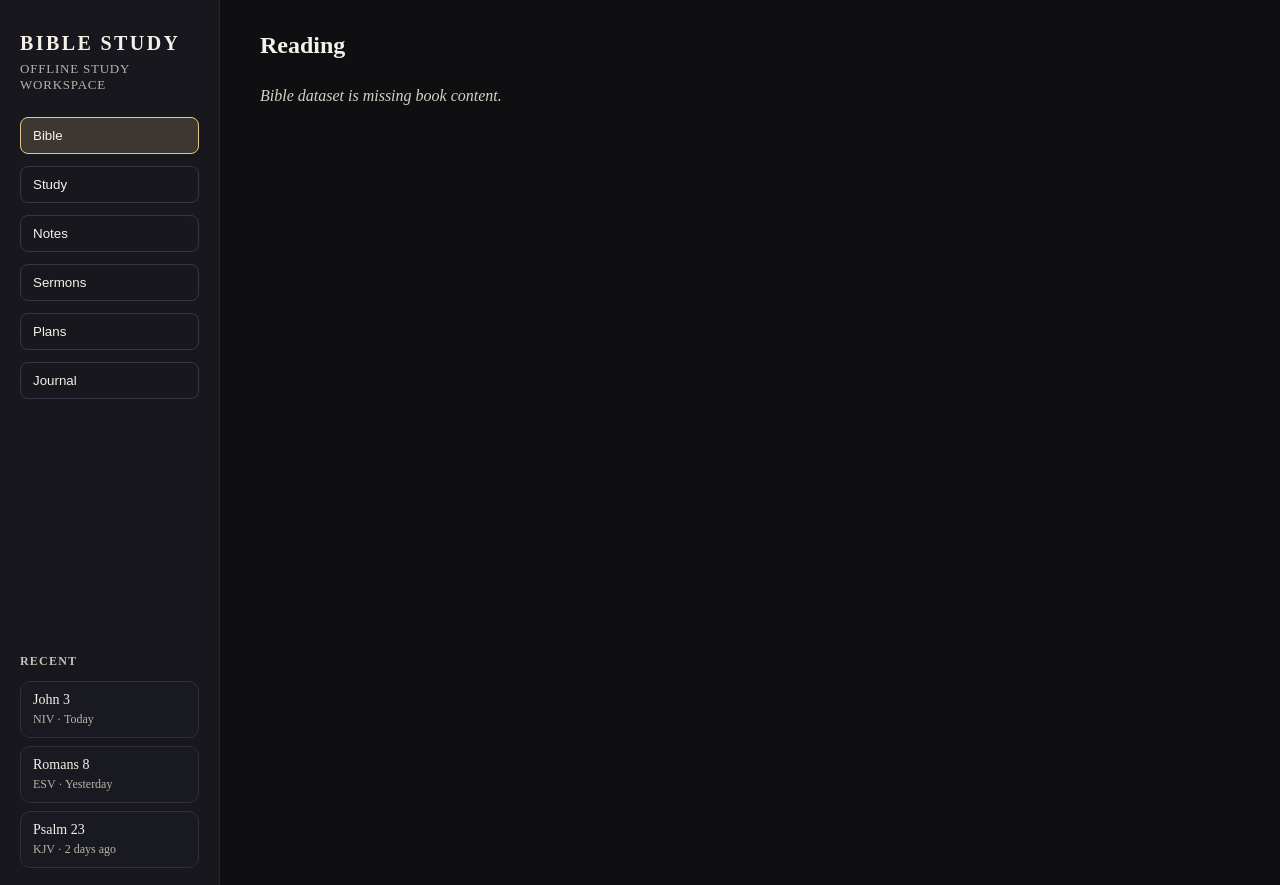
Test: App navigation › switches between core views
Expected: the heading "Reading" is shown, x1=260 y1=32 x2=345 y2=58
Click the button "Notes".
click(110, 234)  # box x1=20 y1=215 x2=199 y2=252
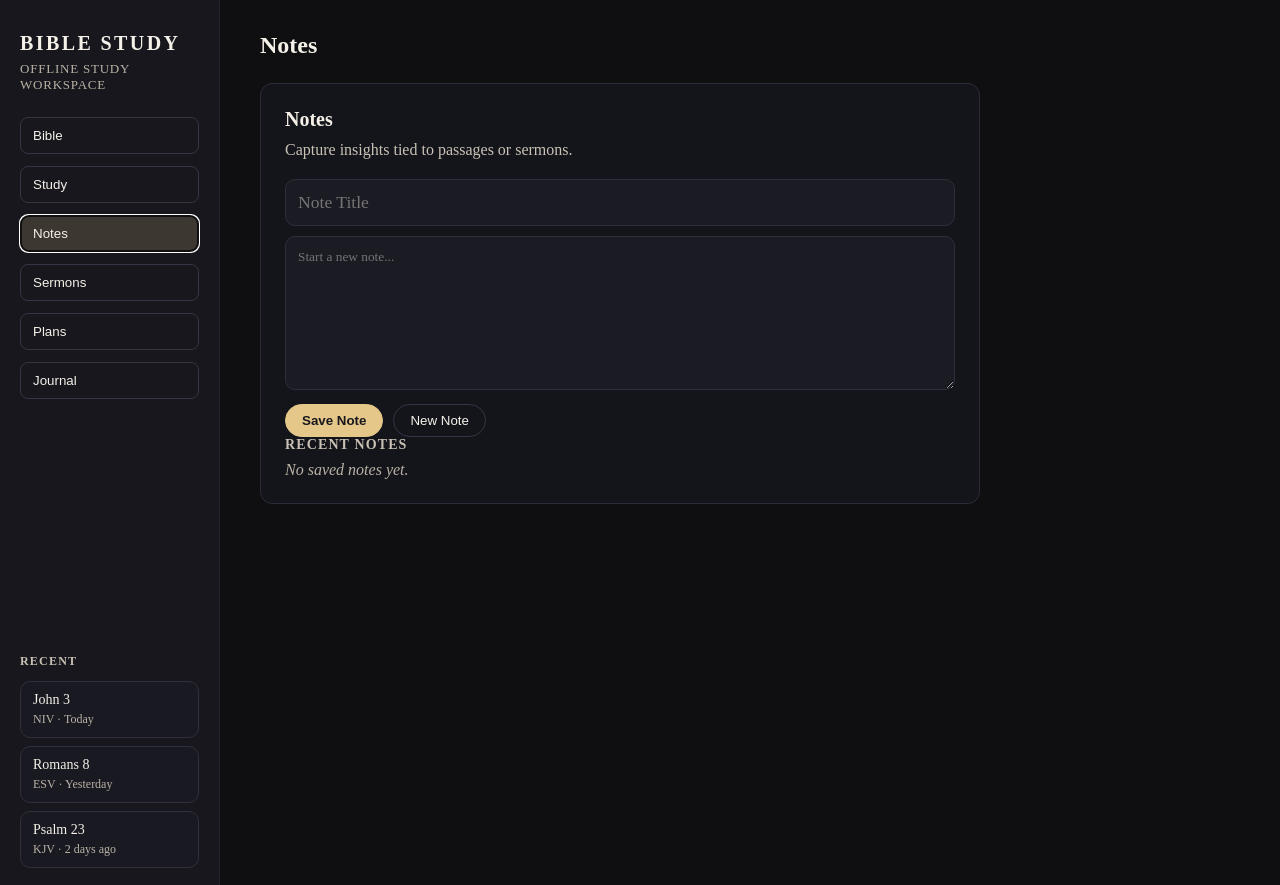
Expected: the 1st heading "Notes" is shown, x1=260 y1=32 x2=317 y2=58
Expected: the text "Capture insights tied to passages or sermons." is shown, x1=285 y1=141 x2=572 y2=158
Click the button "Sermons".
click(110, 282)  # box x1=20 y1=264 x2=199 y2=301
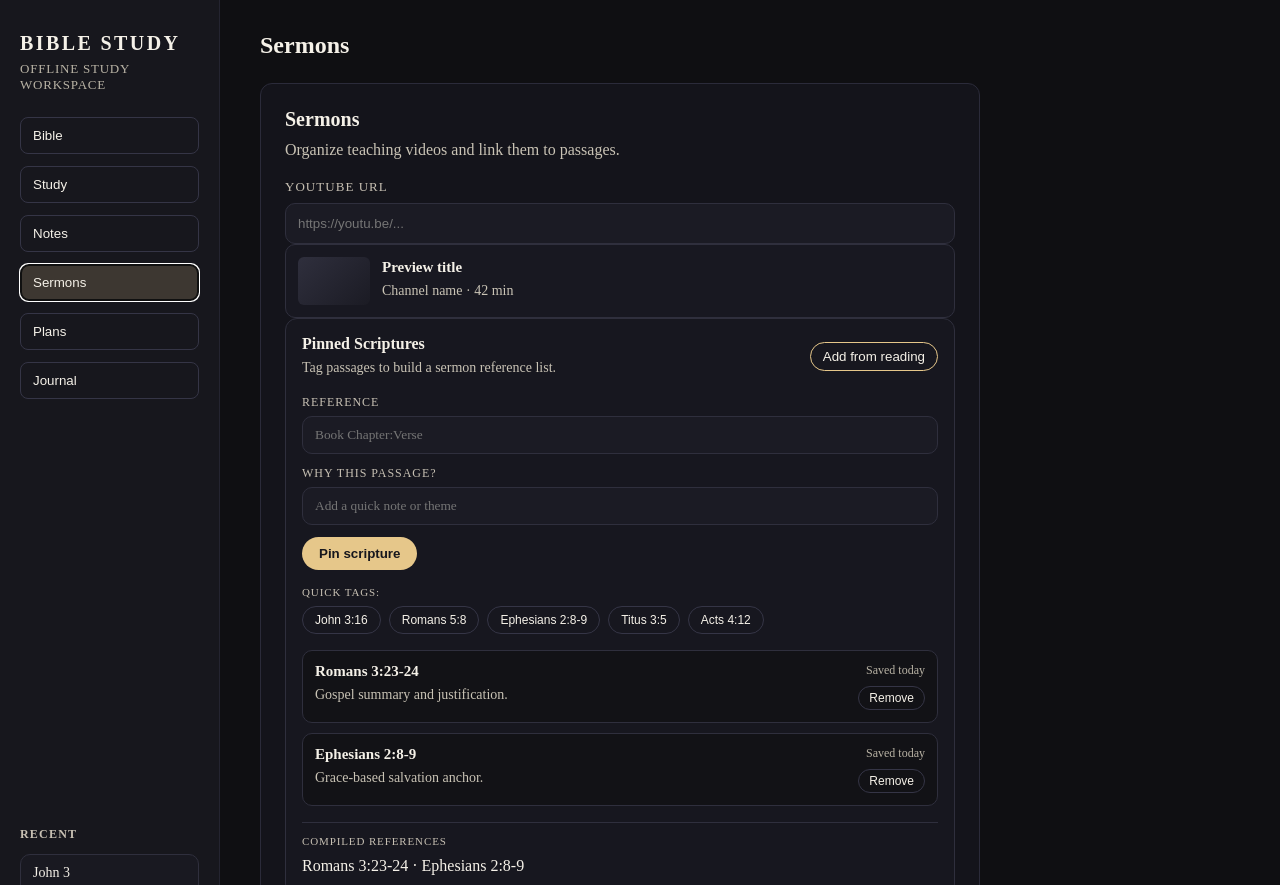
Expected: the 1st heading "Sermons" is shown, x1=260 y1=32 x2=349 y2=58
Expected: the text "Organize teaching videos and link them to passages." is shown, x1=285 y1=141 x2=620 y2=158
Click the button "Plans".
click(110, 332)  # box x1=20 y1=313 x2=199 y2=350
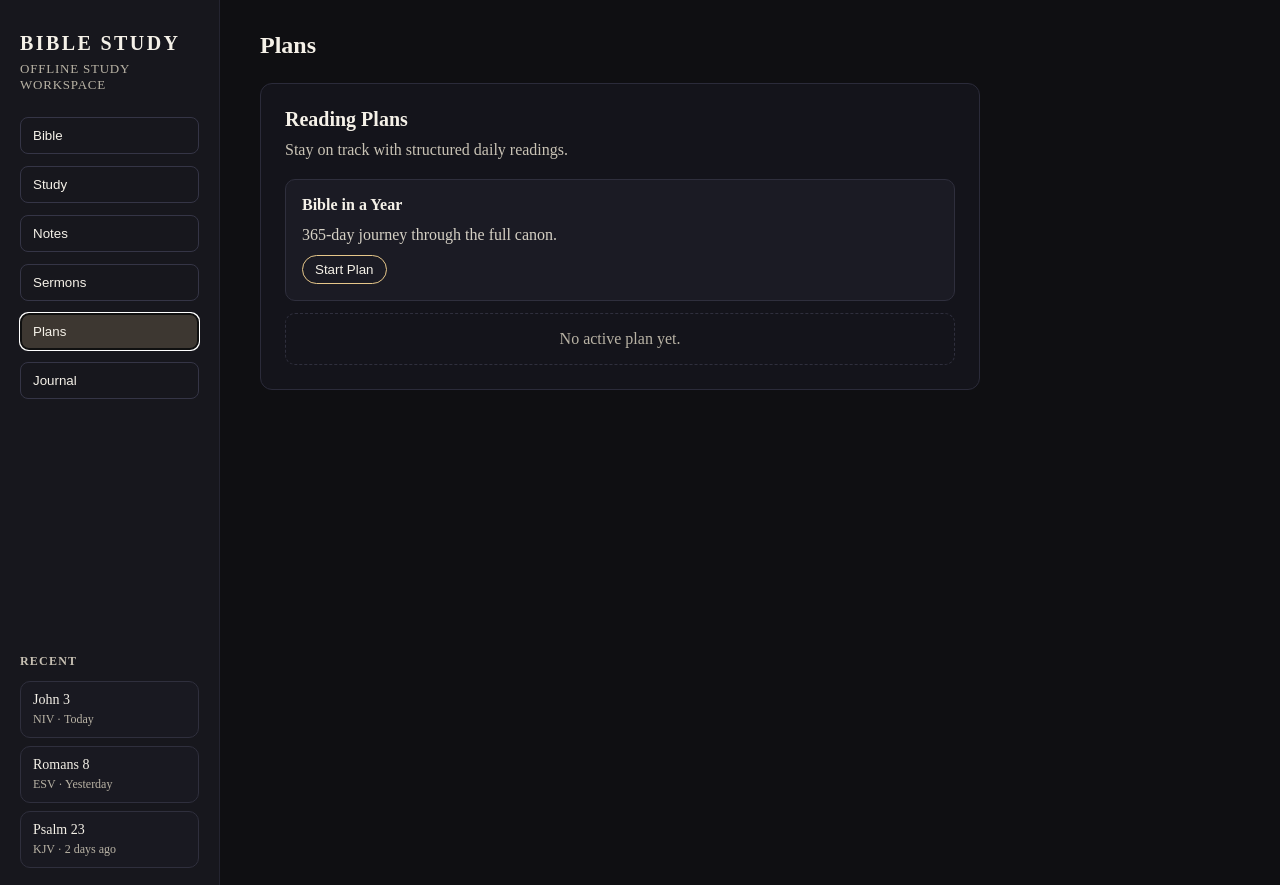
Expected: the heading "Plans" is shown, x1=260 y1=32 x2=316 y2=58
Expected: the text "Stay on track with structured daily readings." is shown, x1=285 y1=141 x2=568 y2=158
Click the button "Journal".
click(110, 380)  # box x1=20 y1=362 x2=199 y2=399
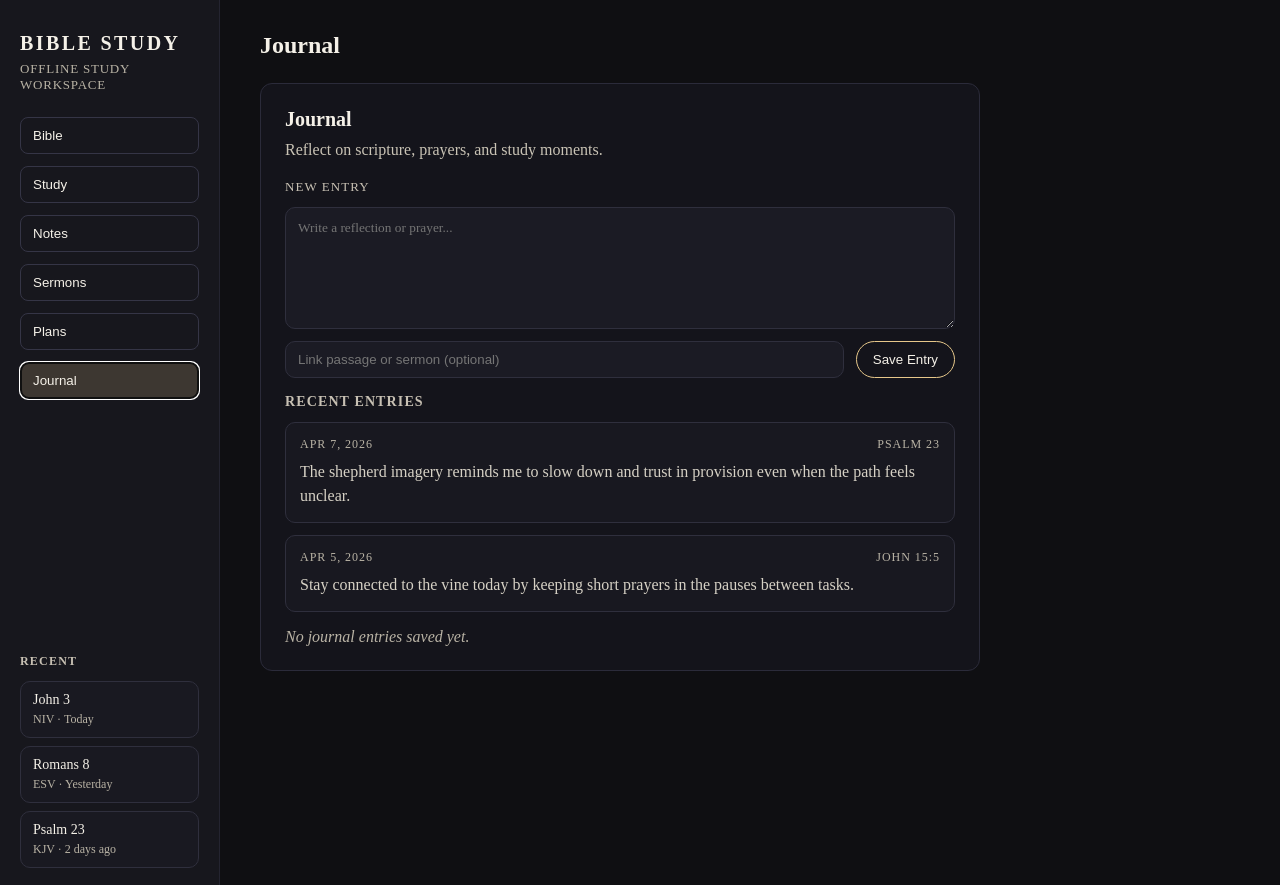
Expected: the 1st heading "Journal" is shown, x1=260 y1=32 x2=340 y2=58
Expected: the text "Reflect on scripture, prayers, and study moments." is shown, x1=285 y1=141 x2=603 y2=158
